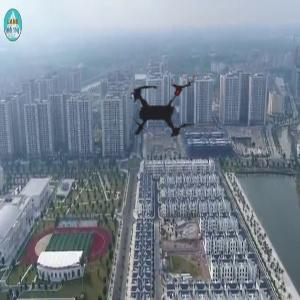drone: (86, 40, 237, 191)
